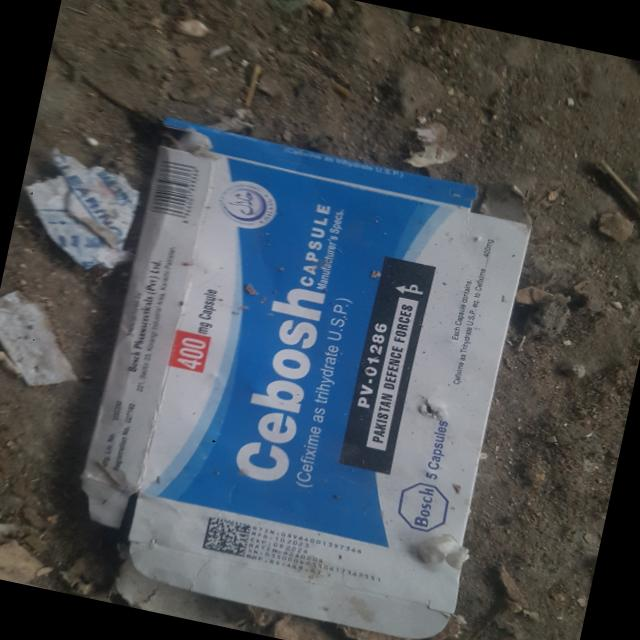electronic: (62, 122, 541, 640), (8, 142, 148, 278)
